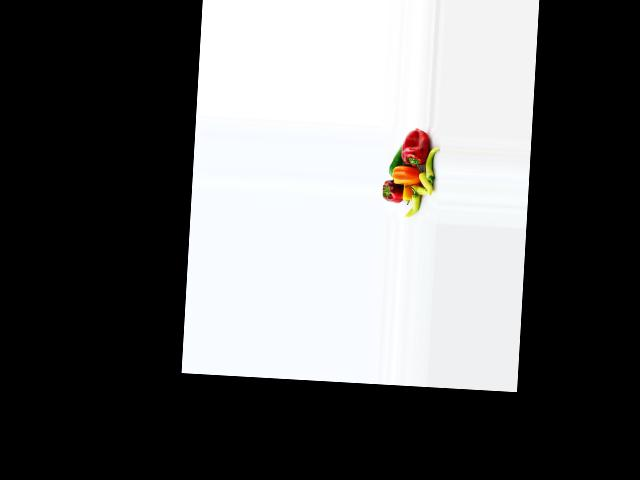bell_pepper: (425, 144, 439, 186)
